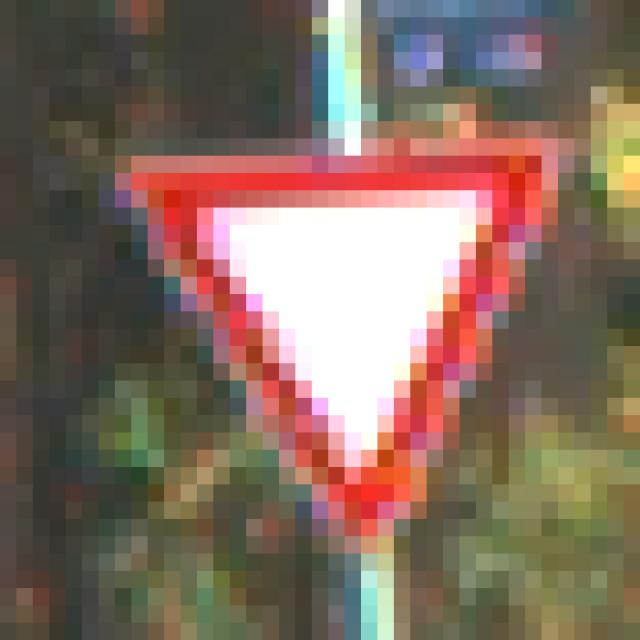Give Way: (99, 88, 559, 537)
